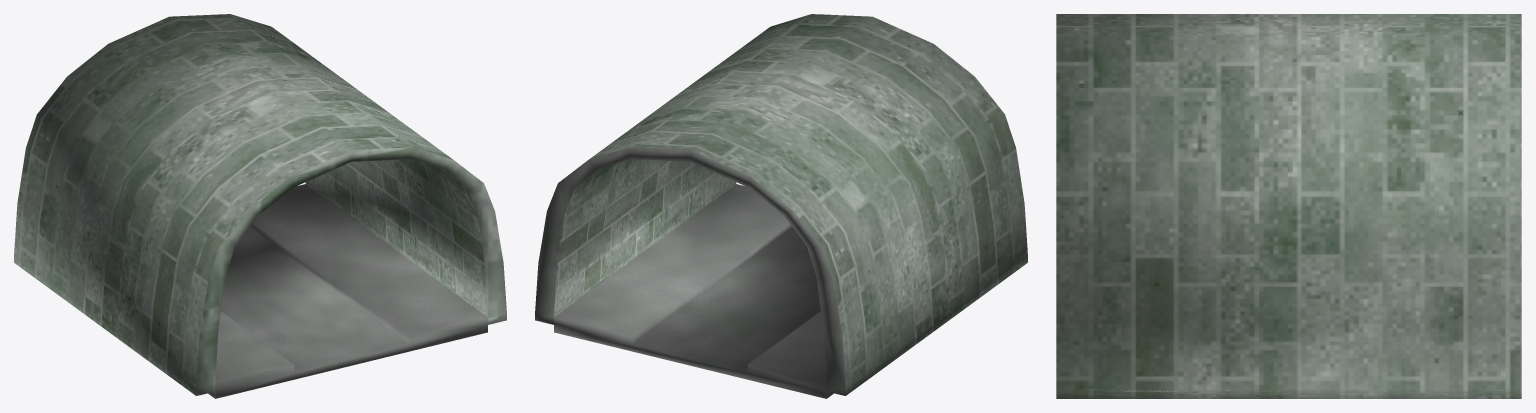
File: Tunnel_Straight.glb
The picture shows the model from 3 angles, left to right: view 1: azimuth 30°, elevation 25°; view 2: azimuth 150°, elevation 25°; view 3: azimuth 270°, elevation 25°; orthographic projection. The views are drawn at different scales.
Visible parts, largest first — view 1: Tunnel_Straight; view 2: Tunnel_Straight; view 3: Tunnel_Straight.
Part boxes in pixels (x1,y1,x2,y2): Tunnel_Straight: (14, 14, 506, 398); Tunnel_Straight: (535, 14, 1027, 398); Tunnel_Straight: (1056, 14, 1521, 398).
Size of the model in its own units: 21.94 by 14.55 by 22.3.
1 material, 1 textured.
